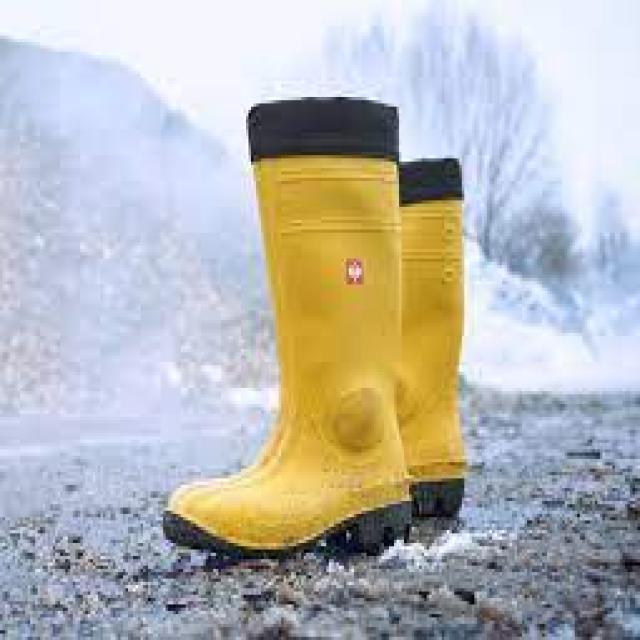shoes: (164, 100, 464, 553)
